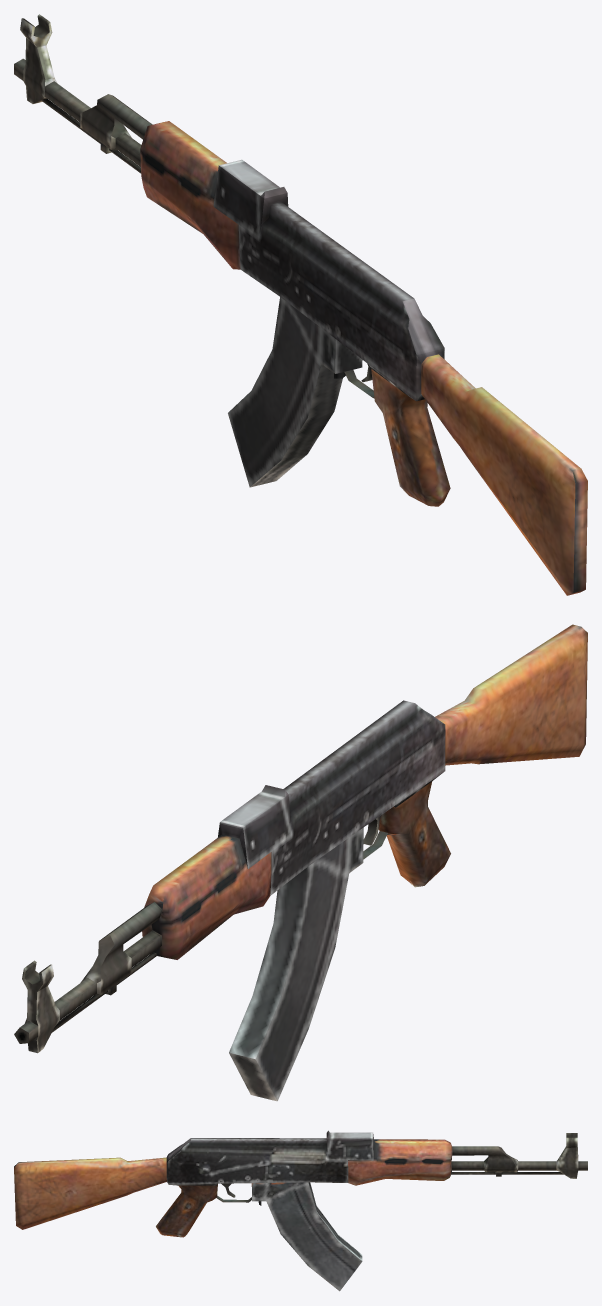
3 views of the same model, one above another, from view 1: azimuth 30°, elevation 25°; view 2: azimuth 150°, elevation 25°; view 3: azimuth 270°, elevation 25° (orthographic). The views are drawn at different scales.
Visible parts, largest first — view 1: ak74; view 2: ak74; view 3: ak74.
Boxes of the visible parts, x1,y1,x2,y2 form: ak74: (14,14,587,595); ak74: (14,624,587,1101); ak74: (14,1130,587,1291).
Bounding box in the file's own units: 1.42 × 8.69 × 29.11.
